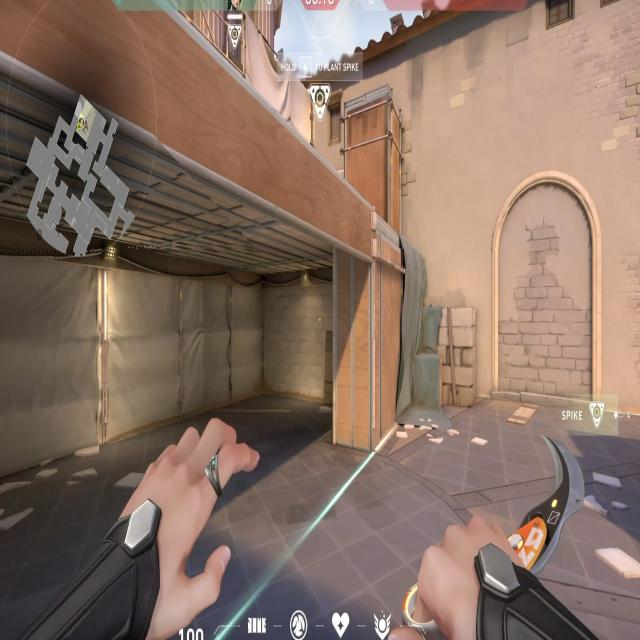A_Heaven_Box: (342, 101, 402, 239)
